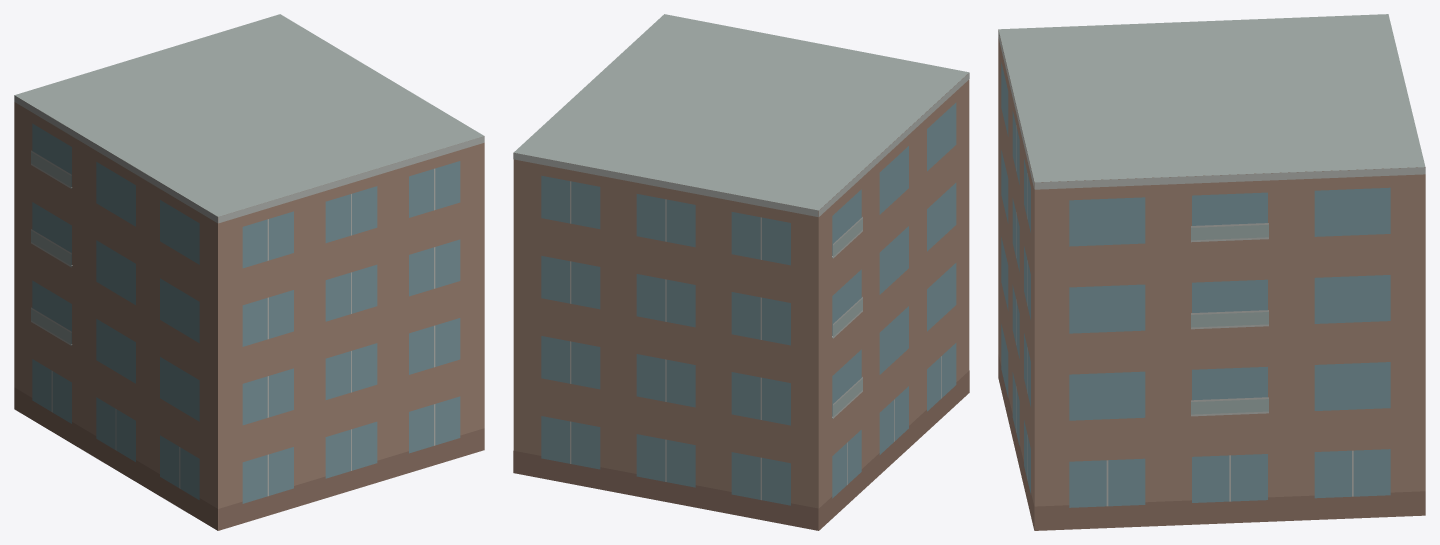
Rendered from survey-upis-32664383.glb.
3 renders of one model, left to right at view 1: azimuth 30°, elevation 25°; view 2: azimuth 150°, elevation 25°; view 3: azimuth 270°, elevation 25°, orthographic. The views are drawn at different scales.
Visible parts, largest first — view 1: survey-upis-32664383.tmp; view 2: survey-upis-32664383.tmp; view 3: survey-upis-32664383.tmp.
Boxes of the visible parts, x1,y1,x2,y2 form: survey-upis-32664383.tmp: (14,14,484,530); survey-upis-32664383.tmp: (513,14,969,530); survey-upis-32664383.tmp: (998,14,1425,530).
Bounding box in the file's own units: 12.03 × 11.6 × 12.9.
